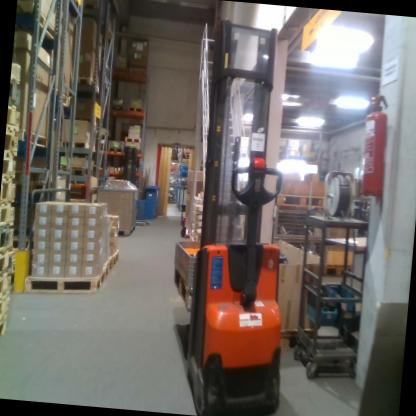pallet: (25, 253, 110, 300), (15, 128, 53, 153), (60, 137, 97, 153), (0, 175, 19, 204), (39, 16, 58, 44), (0, 247, 15, 280), (112, 221, 136, 240), (5, 126, 21, 154), (0, 203, 17, 228), (78, 76, 101, 93), (3, 152, 18, 176), (11, 59, 25, 83), (8, 85, 24, 106), (0, 227, 16, 248), (7, 106, 22, 127), (107, 248, 120, 272), (0, 294, 10, 325), (0, 274, 11, 302), (127, 103, 146, 116), (109, 103, 128, 116), (124, 133, 145, 144), (105, 146, 124, 158), (0, 318, 8, 343)
pallet_truck: (178, 12, 315, 416), (175, 178, 196, 240)
stillage: (267, 201, 332, 269), (93, 184, 141, 239)
